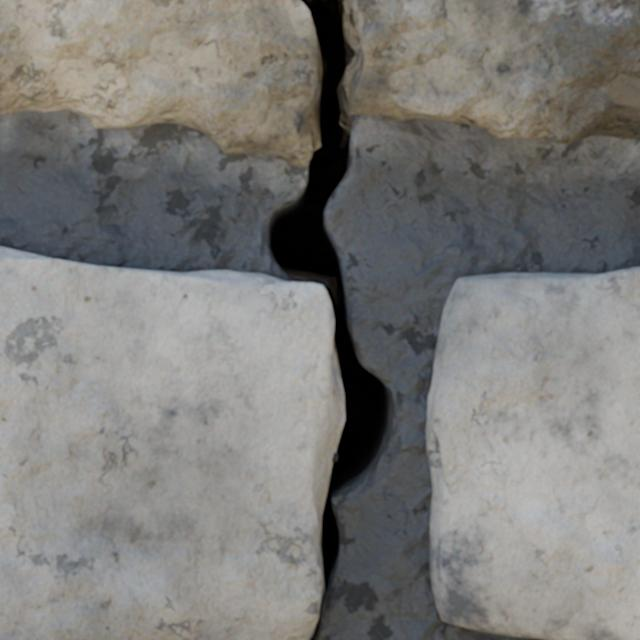broken_brick: (0, 0, 314, 166), (353, 0, 639, 143)
crack: (0, 0, 396, 639), (426, 267, 639, 639)
